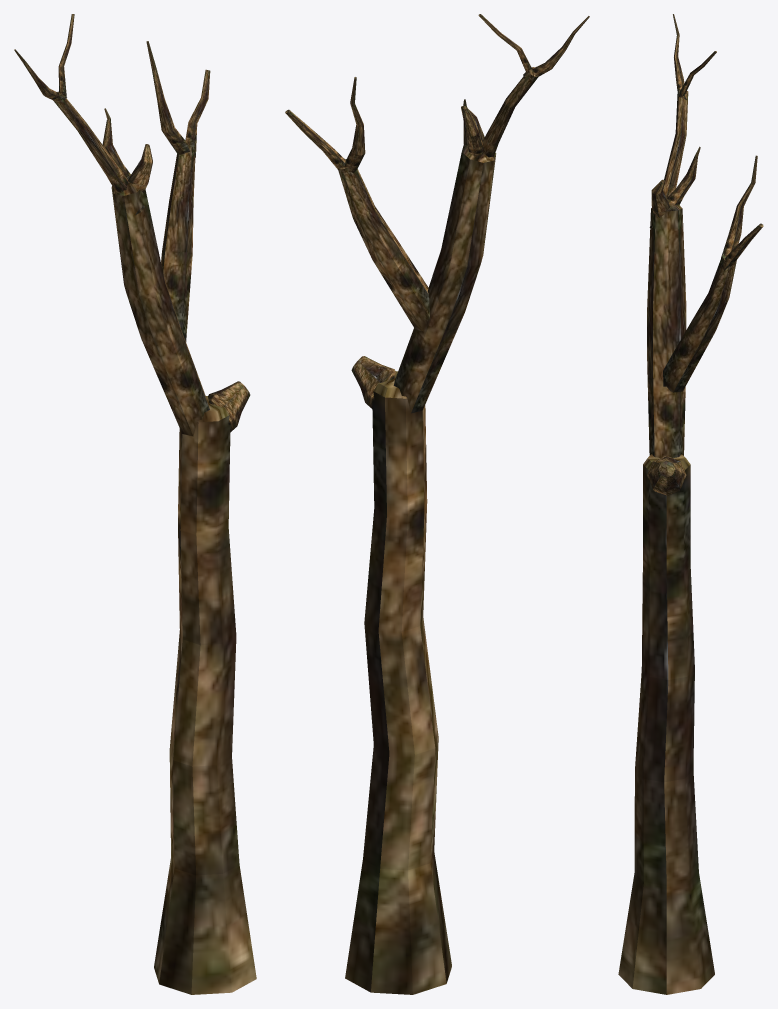
File: treeTest.fbx
The picture shows the model from 3 angles, left to right: view 1: azimuth 30°, elevation 25°; view 2: azimuth 150°, elevation 25°; view 3: azimuth 270°, elevation 25°; orthographic projection. The views are drawn at different scales.
Visible parts, largest first — view 1: Cylinder.011; view 2: Cylinder.011; view 3: Cylinder.011.
Boxes of the visible parts, x1,y1,x2,y2 form: Cylinder.011: (14, 14, 256, 994); Cylinder.011: (285, 14, 589, 994); Cylinder.011: (618, 14, 763, 994).
Bounding box in the file's own units: 220 × 834 × 125.
1 material, 1 textured.
